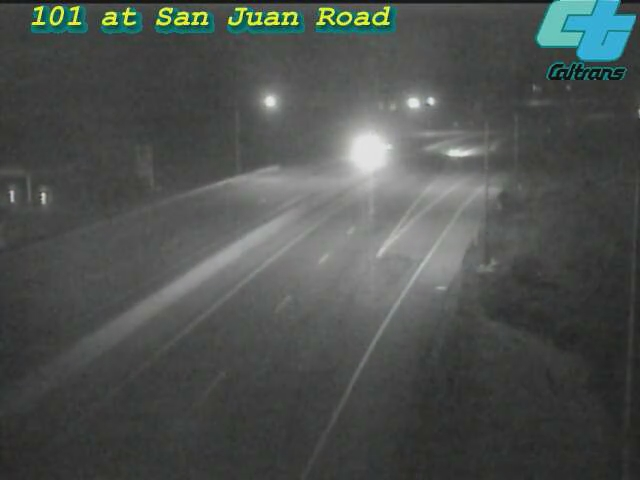vehicle: (340, 125, 390, 175), (428, 128, 478, 178)
